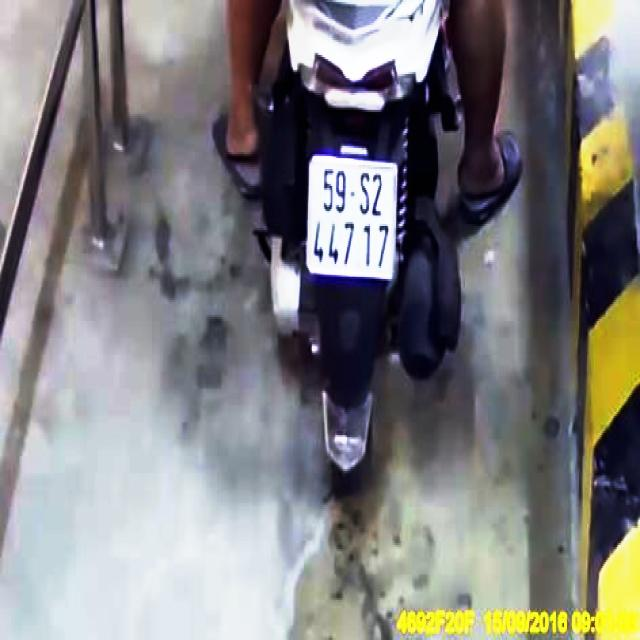license_plate: (309, 157, 397, 281)
